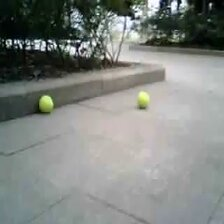tennis: (40, 95, 53, 113), (138, 93, 149, 106)
